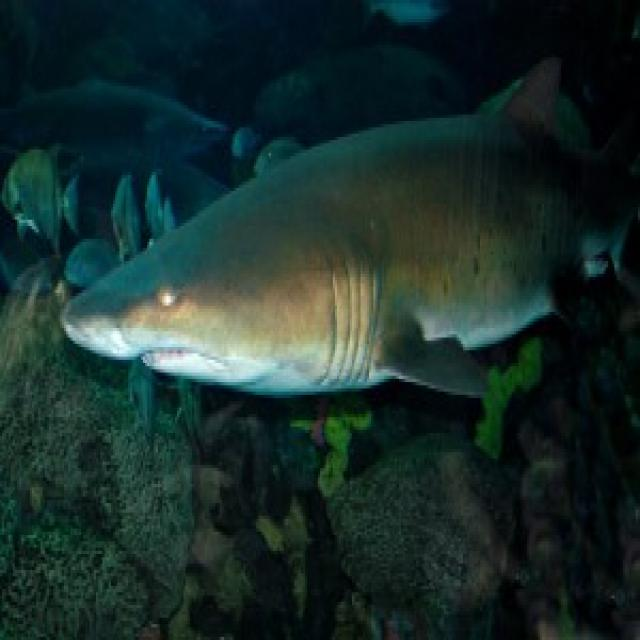Shark: (59, 56, 636, 405)
